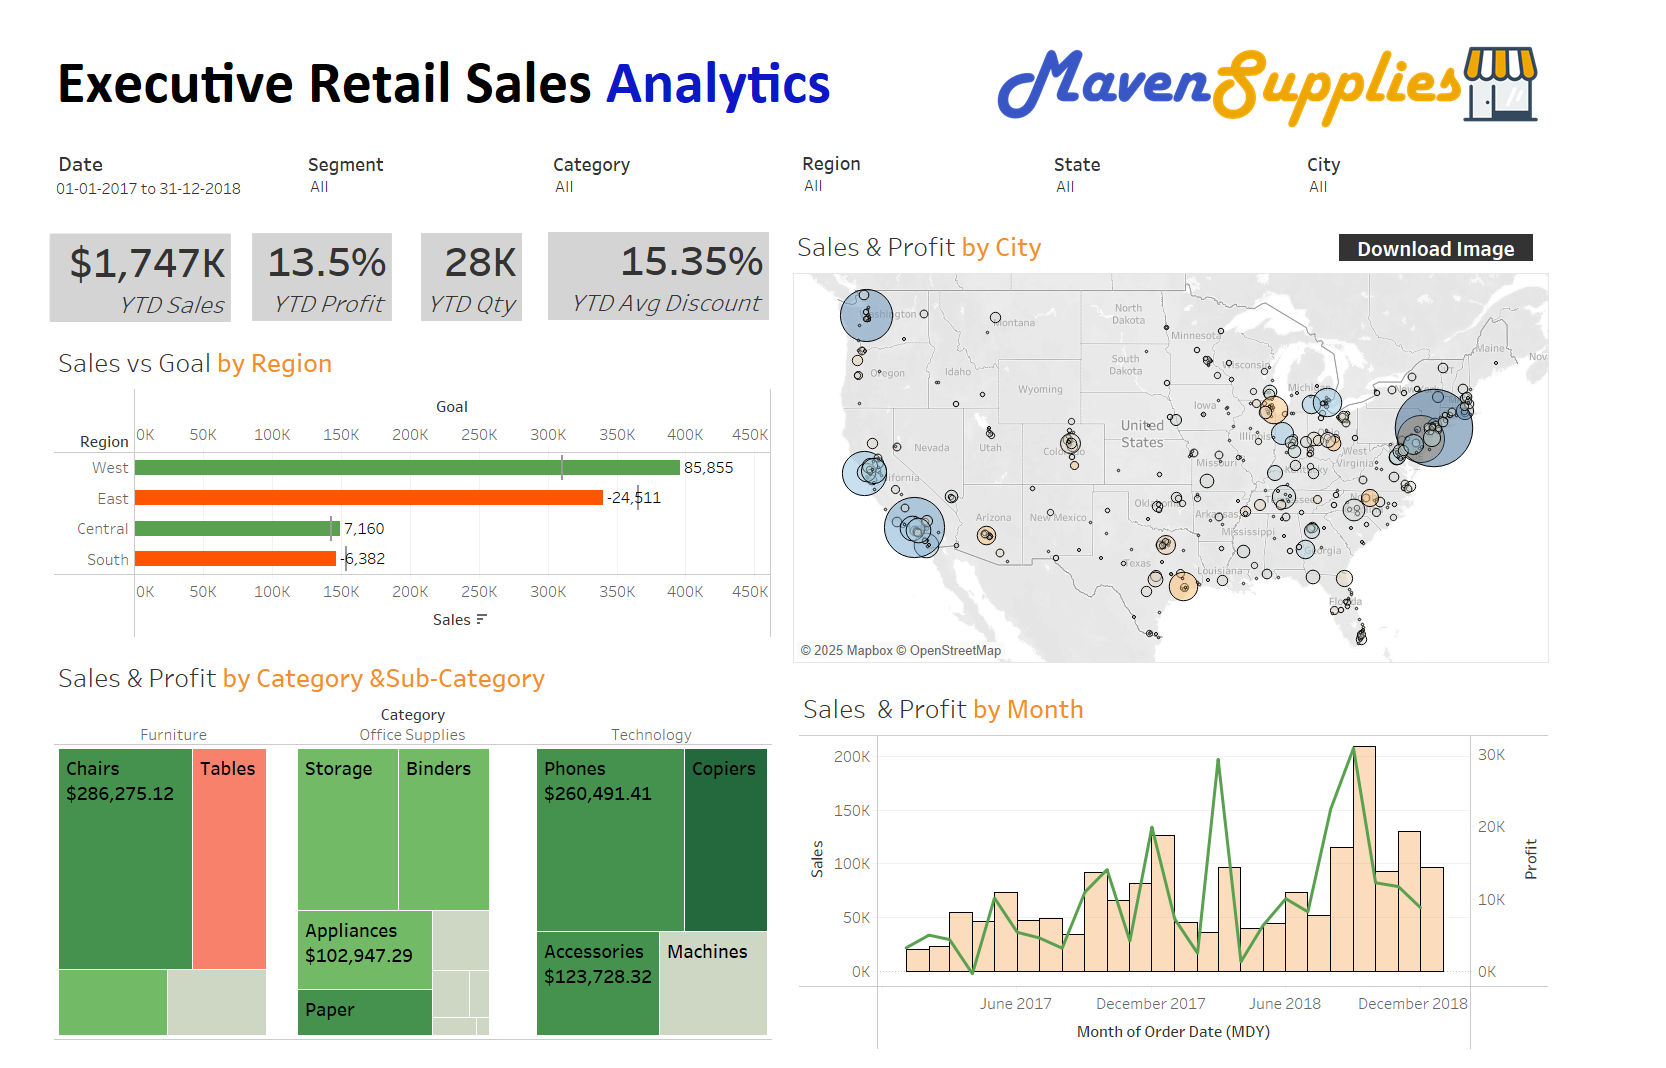

The page's visual inventory and layout, read from the dashboard file:
{"tool":"tableau","page":{"name":"Dashboard 1","canvas":[1666,1068],"ordinal":0},"visuals":[{"type":"text","box":[53.1,22.5,921.5,118.7]},{"type":"image","param":"Image/Maven Supplies Logo.png","box":[988.2,34.4,549.8,115.1]},{"type":"filter","title":"Bar-Sales vs Goal ","param":"[federated.1nbz6l90fxkxe019r0o271yr07qn].[none:Order Date (MDY):qk]","box":[53,145,207,99]},{"type":"filter","title":"Bar-Sales vs Goal ","param":"[federated.1nbz6l90fxkxe019r0o271yr07qn].[none:Region:nk]","box":[802,149,199,76]},{"type":"filter","title":"Bar-Sales vs Goal ","param":"[federated.1nbz6l90fxkxe019r0o271yr07qn].[none:Segment:nk]","box":[308,150,205,95]},{"type":"filter","title":"Bar-Sales vs Goal ","param":"[federated.1nbz6l90fxkxe019r0o271yr07qn].[none:Category:nk]","box":[553,150,218,74]},{"type":"filter","title":"Bar-Sales vs Goal ","param":"[federated.1nbz6l90fxkxe019r0o271yr07qn].[none:State:nk]","box":[1054,150,195,80]},{"type":"filter","title":"Bar-Sales vs Goal ","param":"[federated.1nbz6l90fxkxe019r0o271yr07qn].[none:City:nk]","box":[1307,150,227,80]},{"type":"worksheet","title":"Sheet 11 (2)","mark":"Automatic","box":[548,217,235,148]},{"type":"worksheet","title":"Sheet 10","mark":"Automatic","box":[252,218,182,128]},{"type":"worksheet","title":"Sheet 11","mark":"Automatic","box":[421,218,187,129]},{"type":"worksheet","title":"Sheet 9","mark":"Automatic","box":[50,219,237,139]},{"type":"worksheet","title":"Map -S&P by City","mark":"Automatic","box":[793,223,756,440]},{"type":"dashboard-object","box":[1339,234,194,27]},{"type":"worksheet","title":"Bar-Sales vs Goal ","mark":"Automatic","rows":["Region"],"cols":["Sales","Goal"],"box":[54,339,717,299]},{"type":"worksheet","title":"Tree-S&P by Cat&sub","mark":"Automatic","cols":["Category"],"box":[54,654,718,386]},{"type":"worksheet","title":"S&P by Month","mark":"Automatic","rows":["Sales","Profit"],"cols":["Order Date (MDY)"],"box":[799,685,750,365]}]}

Visuals, with their boxes in screenshot pixels (x1, y1, x2, y2), scaled from the page's 1666x1068 canvas onto the 1666x1068 screenshot:
text: select_region(53, 22, 975, 141)
image: select_region(988, 34, 1538, 150)
"Bar-Sales vs Goal " filter: select_region(53, 145, 260, 244)
"Bar-Sales vs Goal " filter: select_region(802, 149, 1001, 225)
"Bar-Sales vs Goal " filter: select_region(308, 150, 513, 245)
"Bar-Sales vs Goal " filter: select_region(553, 150, 771, 224)
"Bar-Sales vs Goal " filter: select_region(1054, 150, 1249, 230)
"Bar-Sales vs Goal " filter: select_region(1307, 150, 1534, 230)
"Sheet 11 (2)" worksheet: select_region(548, 217, 783, 365)
"Sheet 10" worksheet: select_region(252, 218, 434, 346)
"Sheet 11" worksheet: select_region(421, 218, 608, 347)
"Sheet 9" worksheet: select_region(50, 219, 287, 358)
"Map -S&P by City" worksheet: select_region(793, 223, 1549, 663)
dashboard-object: select_region(1339, 234, 1533, 261)
"Bar-Sales vs Goal " worksheet: select_region(54, 339, 771, 638)
"Tree-S&P by Cat&sub" worksheet: select_region(54, 654, 772, 1040)
"S&P by Month" worksheet: select_region(799, 685, 1549, 1050)
